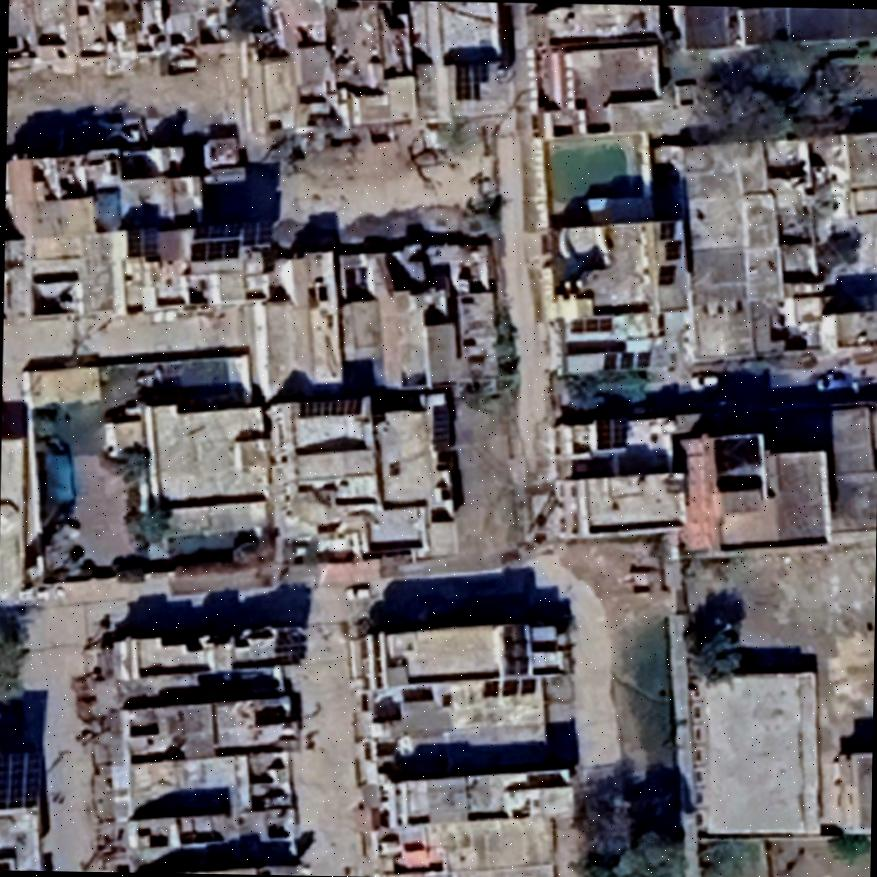Solarpanel: (184, 212, 277, 266), (0, 741, 46, 813), (290, 388, 367, 420), (448, 51, 493, 104), (120, 219, 163, 263), (591, 410, 631, 453), (600, 344, 654, 374), (564, 310, 615, 334)
